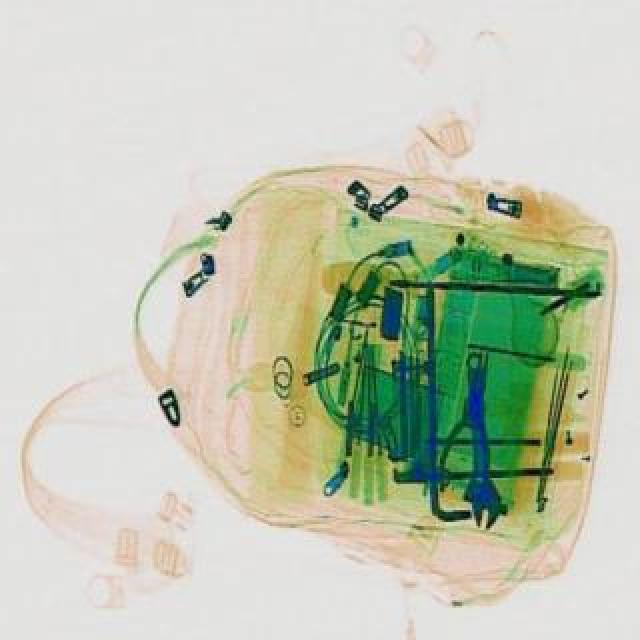scissors: (454, 346, 506, 526)
